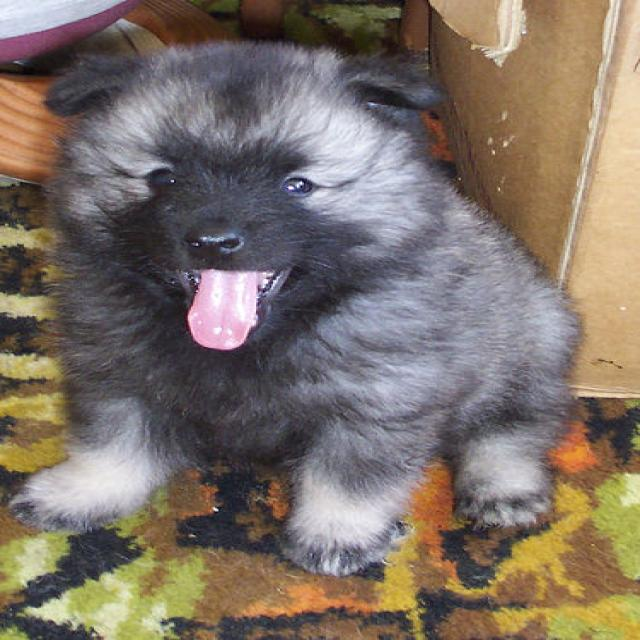dog-keeshond: (3, 32, 584, 586)
